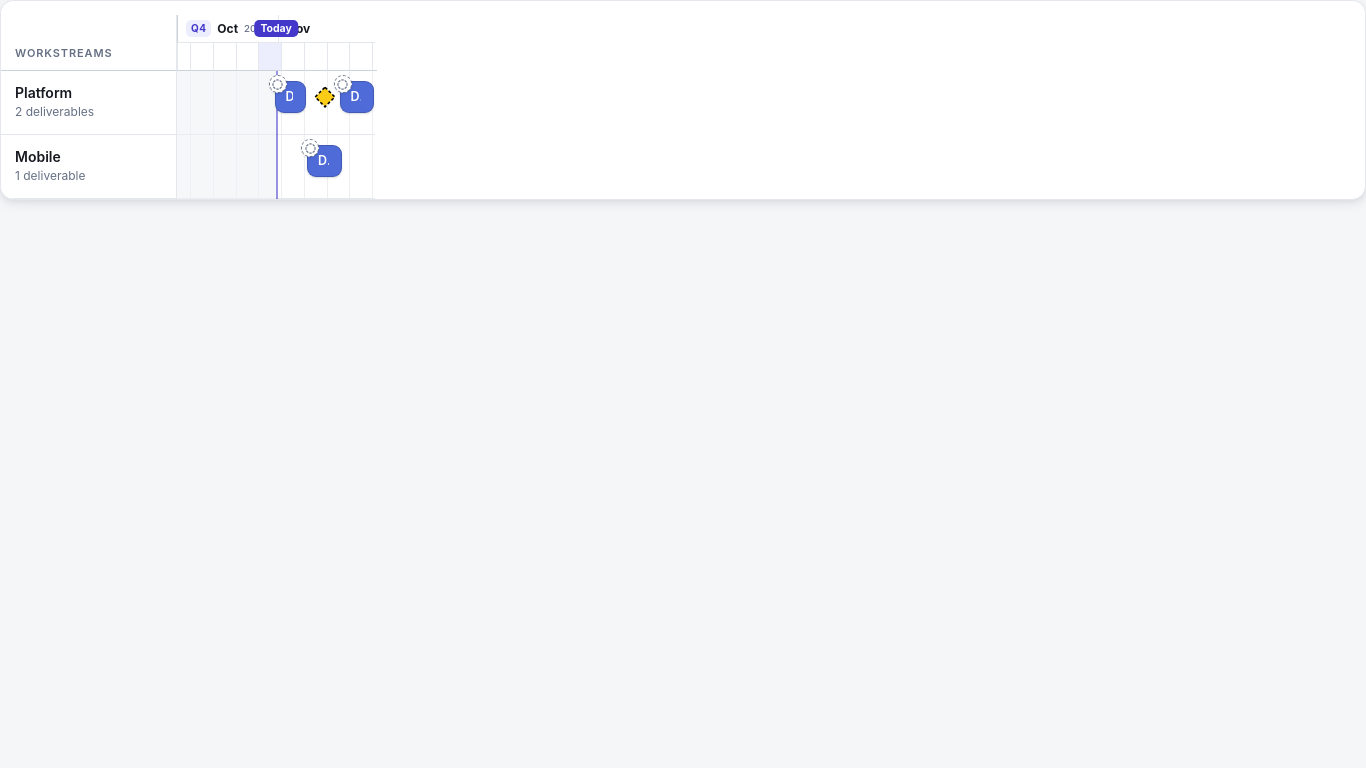
Test: dragging with pointer events › REQ_FE_014 REQ_FE_015 a milestone dropped onto an occupied day of another row moves nothing and says so
Step 1. Press the mouse on the button named "Beta · Planned" → {"x": 325, "y": 97}, box left=314, top=86, right=336, bottom=108
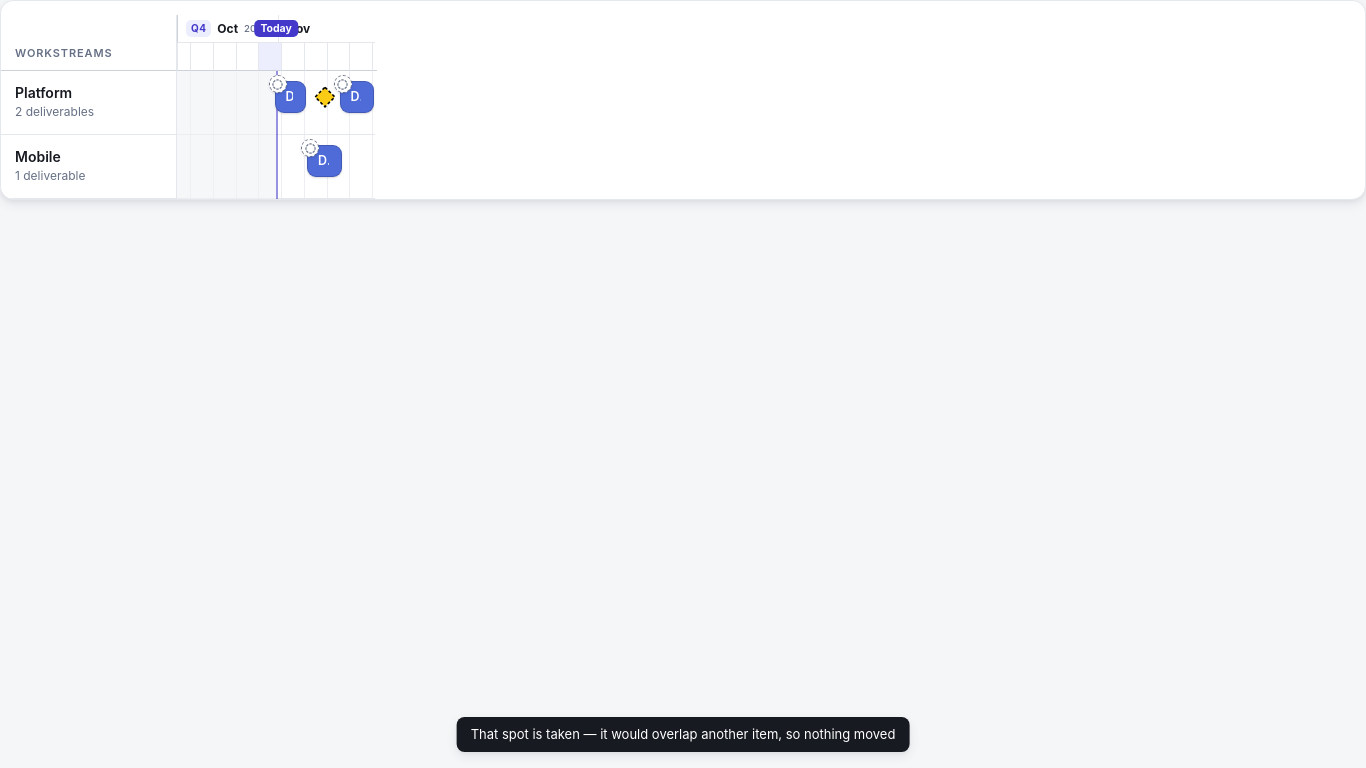
Now the message with class "tl-notice" shows "taken", box left=471, top=726, right=895, bottom=742
